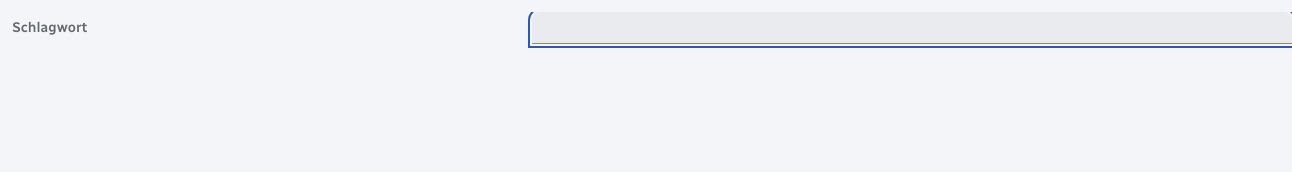
it: SuggestField › takes an option on a press, keeping the focus in the field
The image size is (1292, 172).
Press ArrowDown in the dropdown labelled "Schlagwort", box [540,12,1284,43]
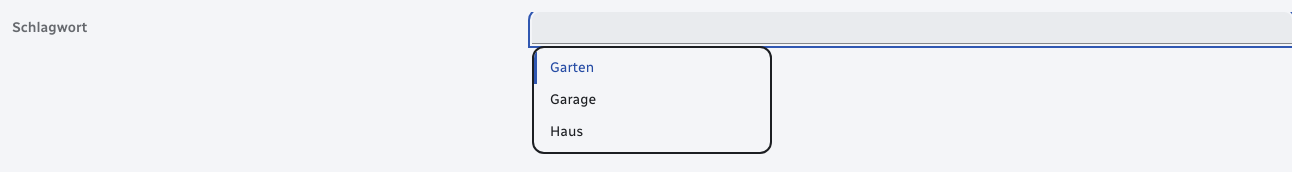
Press the mouse on the option "Haus" at (567, 132), box [550,123,583,140]
Click the option "Haus".
click(567, 132)  # box [550,123,583,140]
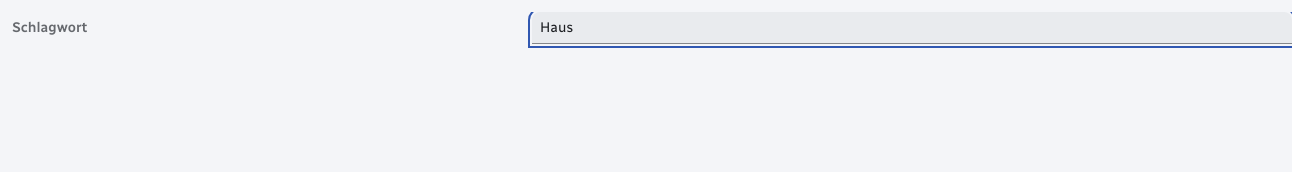
Now the dropdown labelled "Schlagwort" holds "Haus", box [540,12,1284,43]
